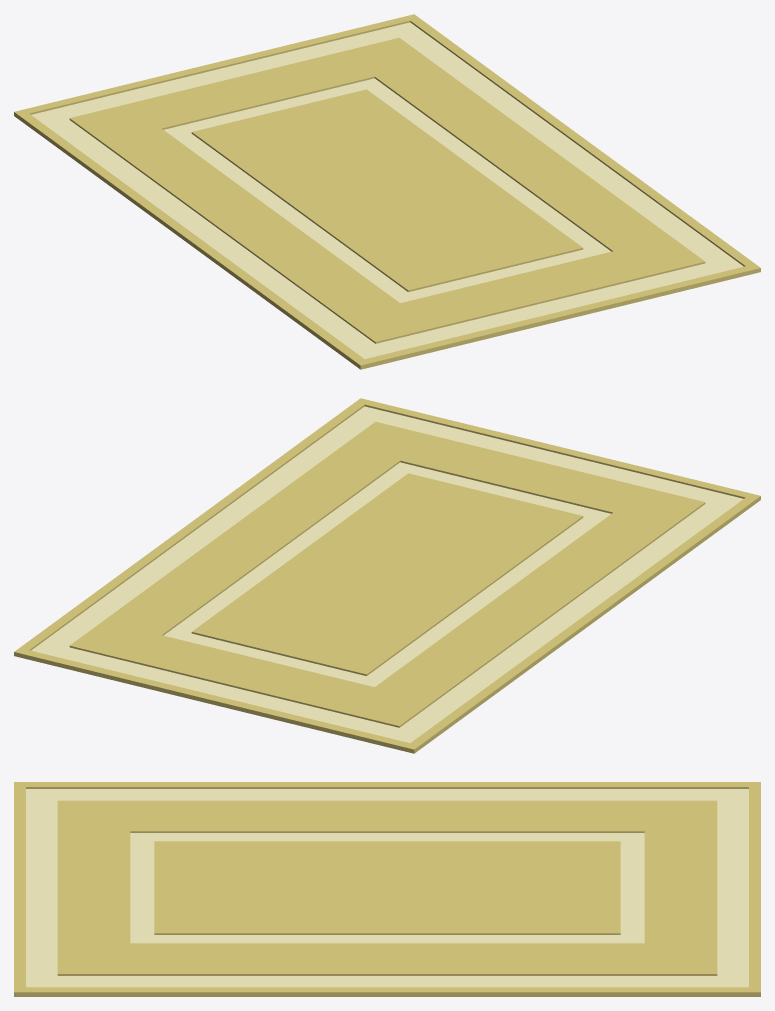
File: Itr_Carpet2_02.FBX
3 renders of one model, top to bottom at view 1: azimuth 30°, elevation 25°; view 2: azimuth 150°, elevation 25°; view 3: azimuth 270°, elevation 25°, orthographic. The views are drawn at different scales.
Parts seen in each view (by area): view 1: Itr_Carpet2_02; view 2: Itr_Carpet2_02; view 3: Itr_Carpet2_02.
Part boxes in pixels (x1,y1,x2,y2): Itr_Carpet2_02: (14, 14, 760, 369); Itr_Carpet2_02: (14, 398, 760, 753); Itr_Carpet2_02: (14, 782, 760, 996).
Bounding box in the file's own units: 105 × 1.05 × 158.
